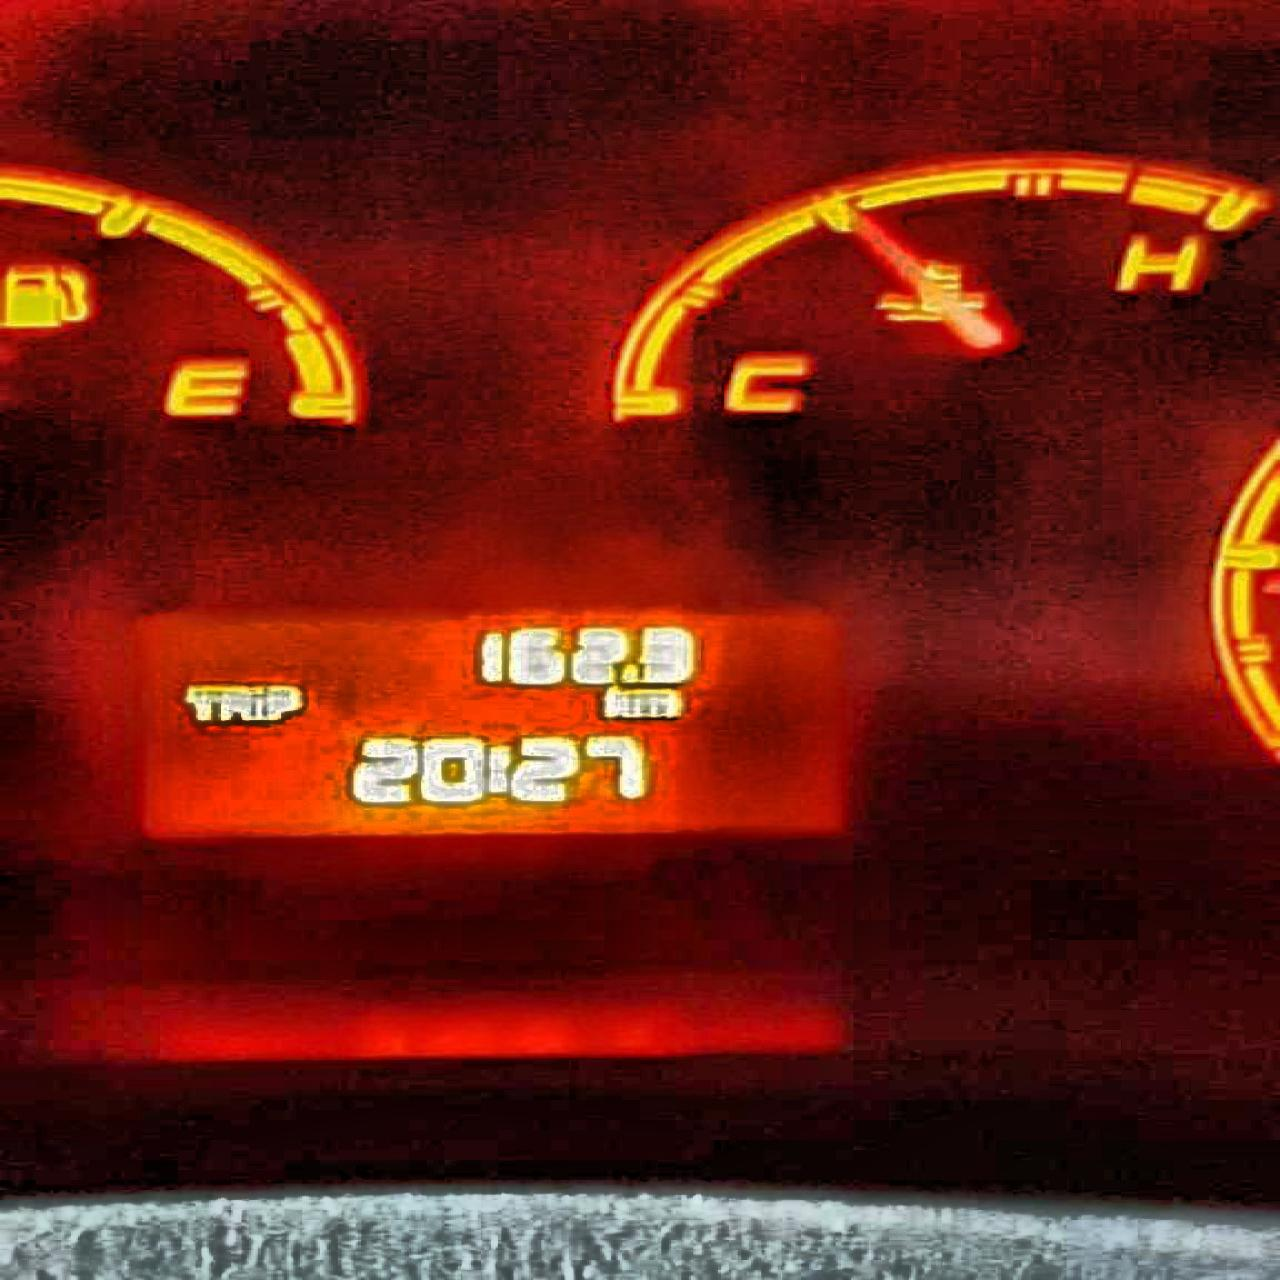-: (618, 662, 638, 683)
0: (414, 736, 484, 803)
1: (476, 629, 504, 685)
2: (347, 736, 417, 804), (509, 735, 578, 803), (567, 626, 629, 683)
3: (635, 625, 697, 685)
6: (504, 626, 563, 685)
7: (583, 734, 648, 798)
X: (628, 687, 682, 717), (483, 745, 513, 795), (181, 683, 218, 721), (263, 685, 302, 720), (216, 682, 248, 722), (600, 685, 631, 717)
odometer: (129, 605, 853, 840)
